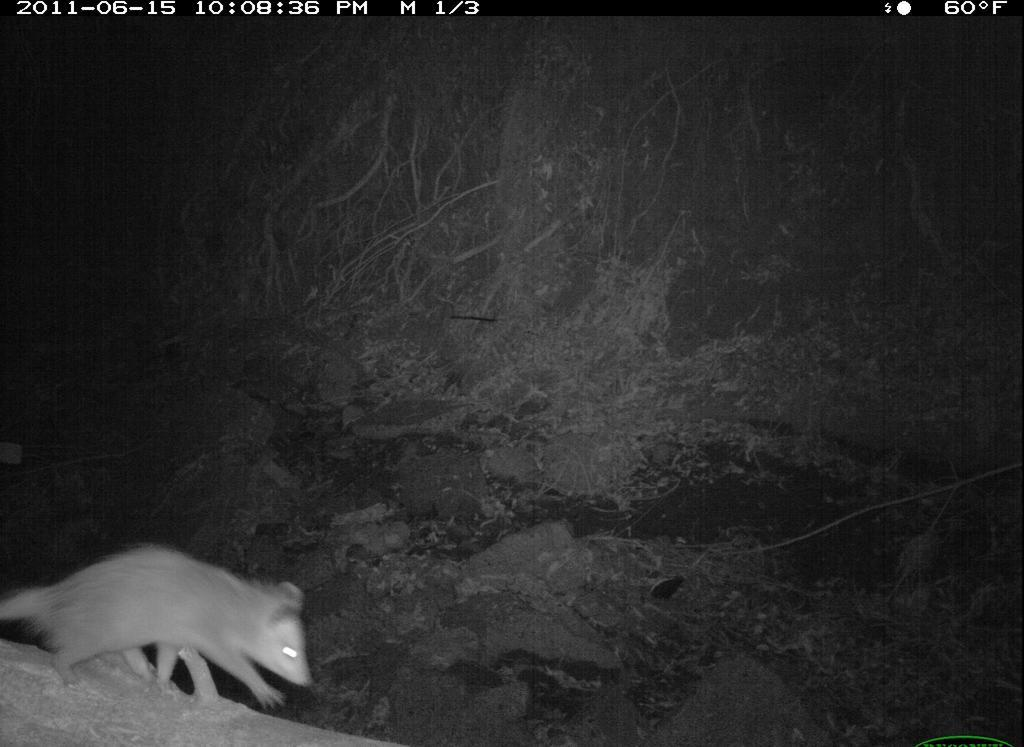opossum: (4, 520, 336, 728)
